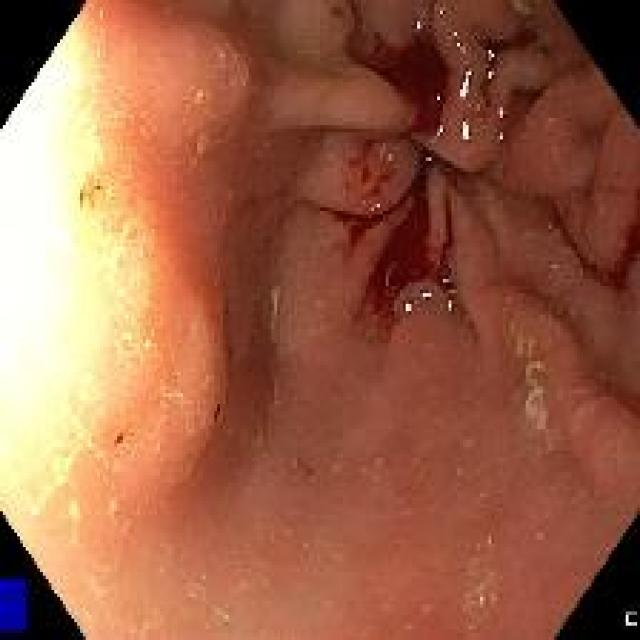blood: (330, 163, 443, 335), (349, 42, 445, 151), (597, 213, 639, 293), (553, 207, 597, 277)
color misalignment: (0, 580, 26, 633)
saturation: (0, 11, 147, 527)
specularity: (457, 118, 474, 145), (458, 69, 473, 98), (378, 144, 393, 164), (450, 30, 464, 50), (400, 297, 414, 316), (419, 284, 432, 302), (411, 20, 425, 35), (432, 124, 445, 138), (424, 150, 434, 166), (497, 105, 506, 122), (369, 202, 381, 214), (485, 47, 496, 60), (496, 129, 505, 144), (444, 298, 453, 312), (431, 93, 442, 103), (452, 286, 460, 299), (442, 271, 449, 285), (487, 67, 494, 81)
